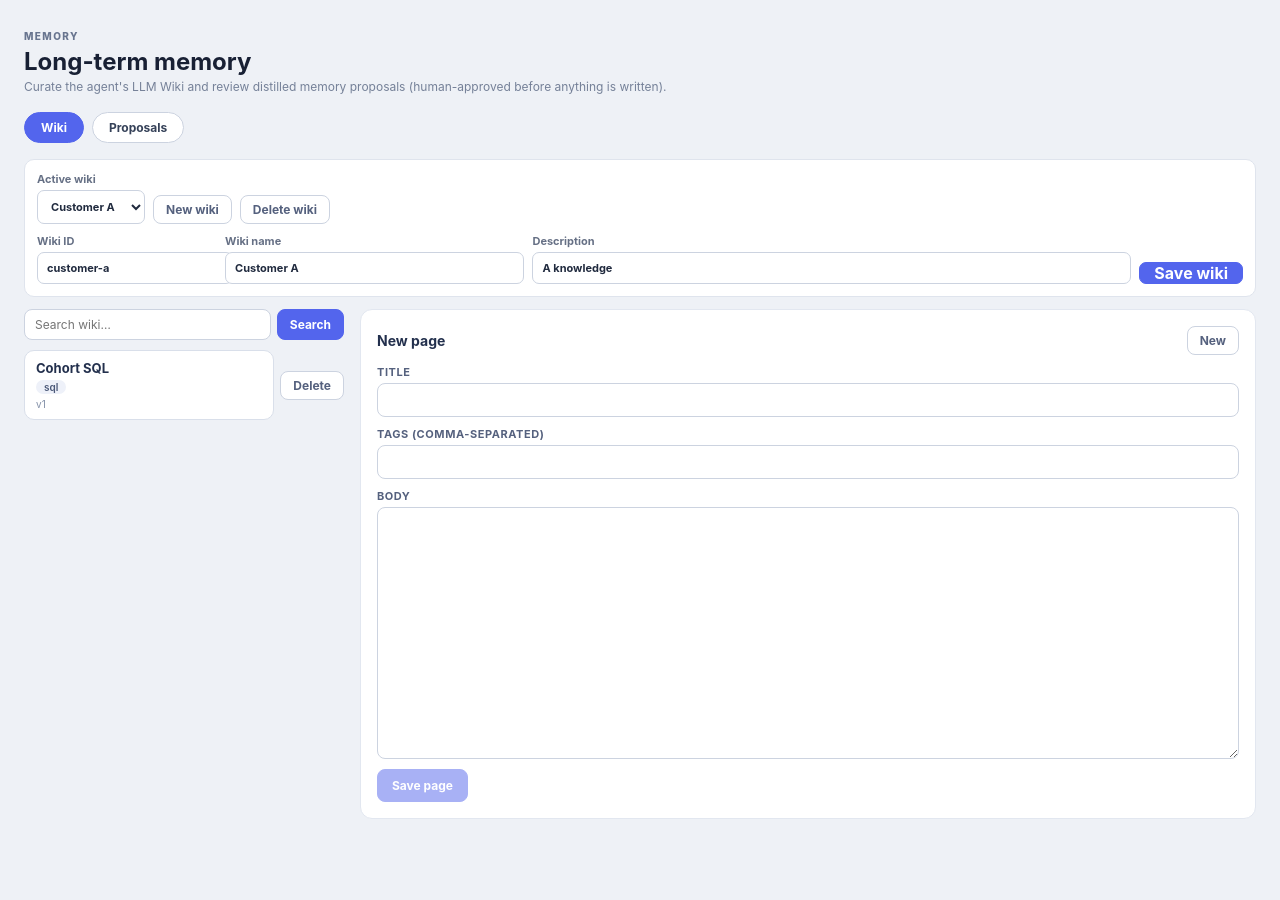
Scenario: MemoryPage › Wiki管理(Save wiki)のエラーはWiki管理セクション直下に表示し、ページ編集エラーとは独立する
Click the button "New wiki": point(192, 210) [153,195,232,224]
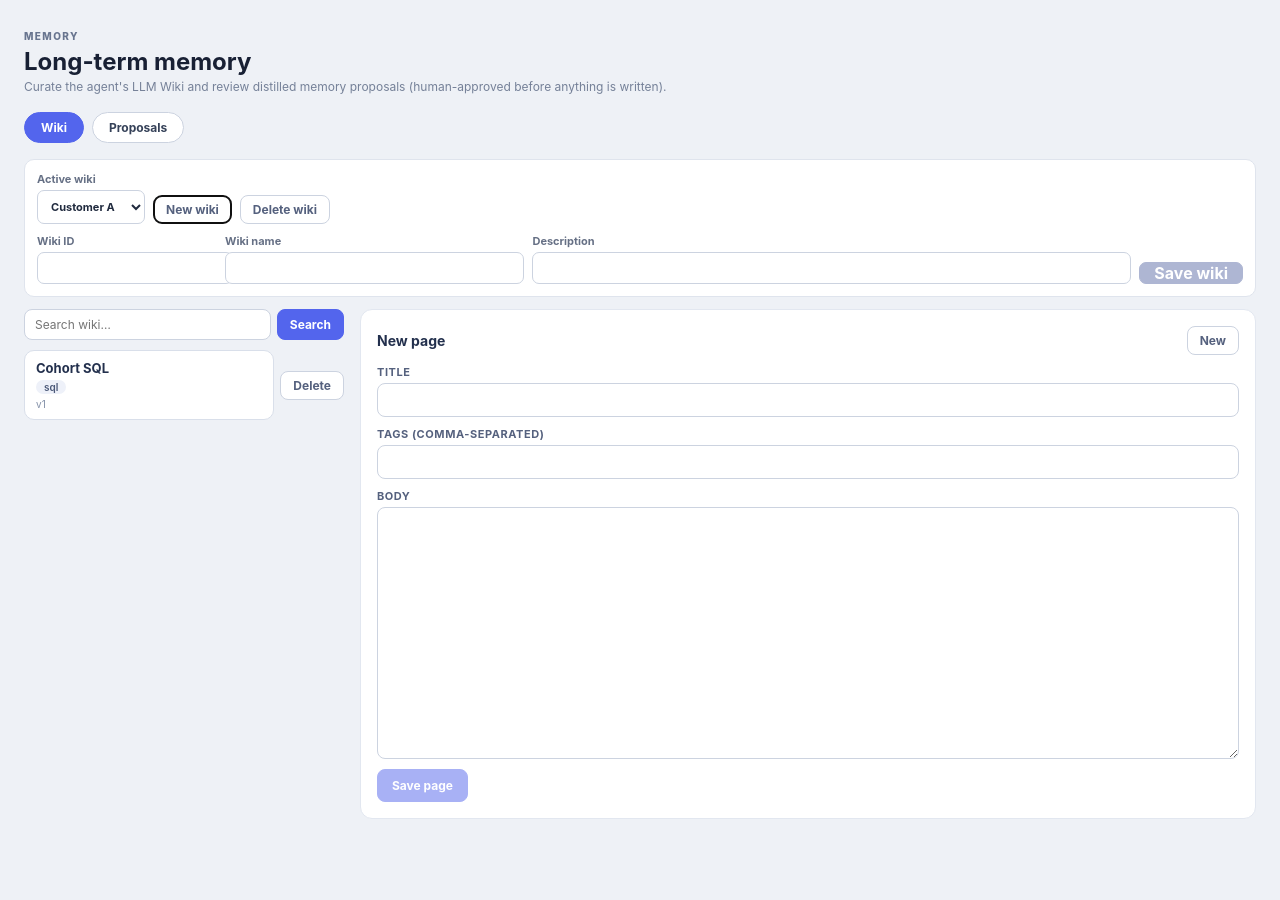
In the field labelled "Wiki ID": point(135, 268) [37,252,233,284], type "customer-b"
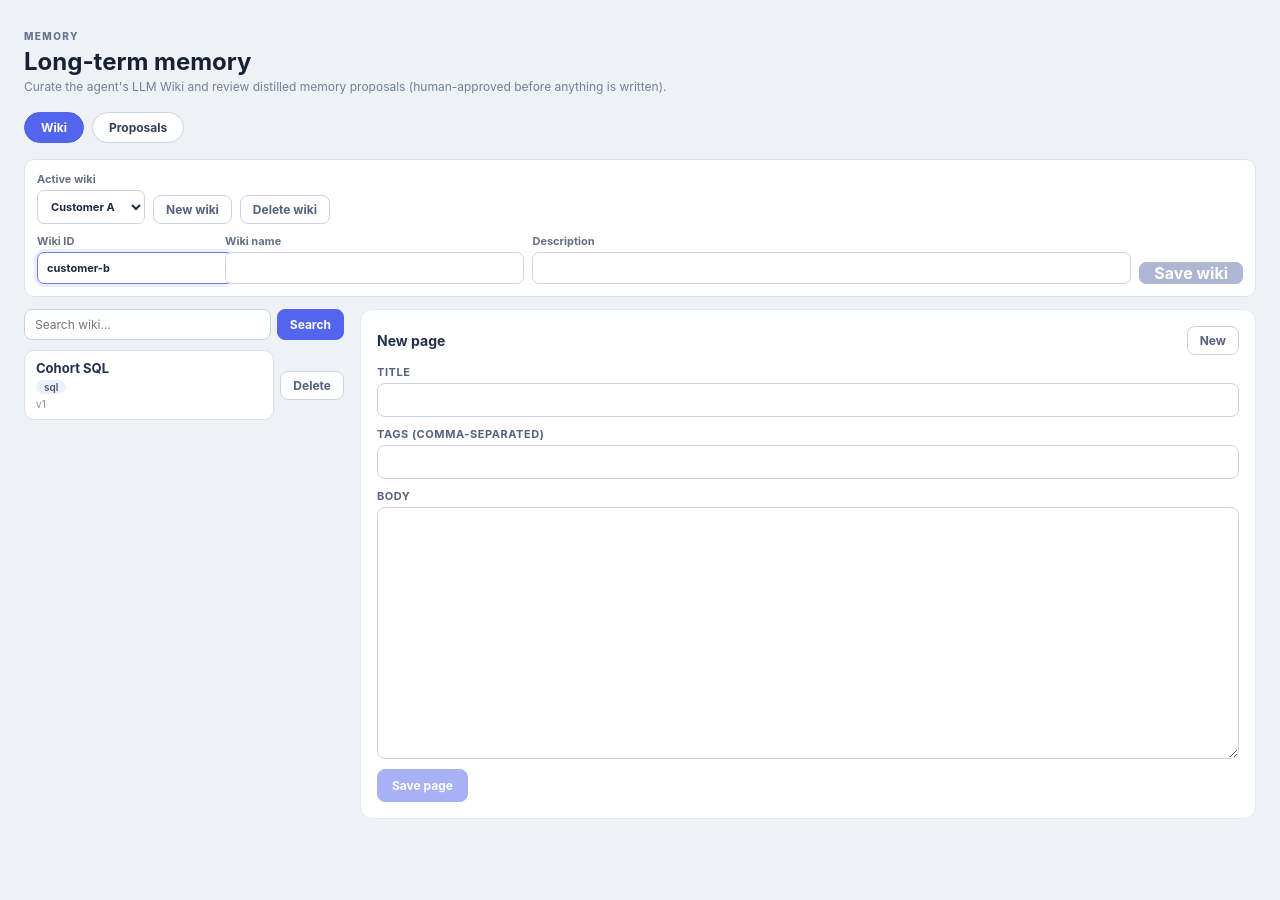
In the field labelled "Wiki name": point(375, 268) [225,252,524,284], type "Customer B"
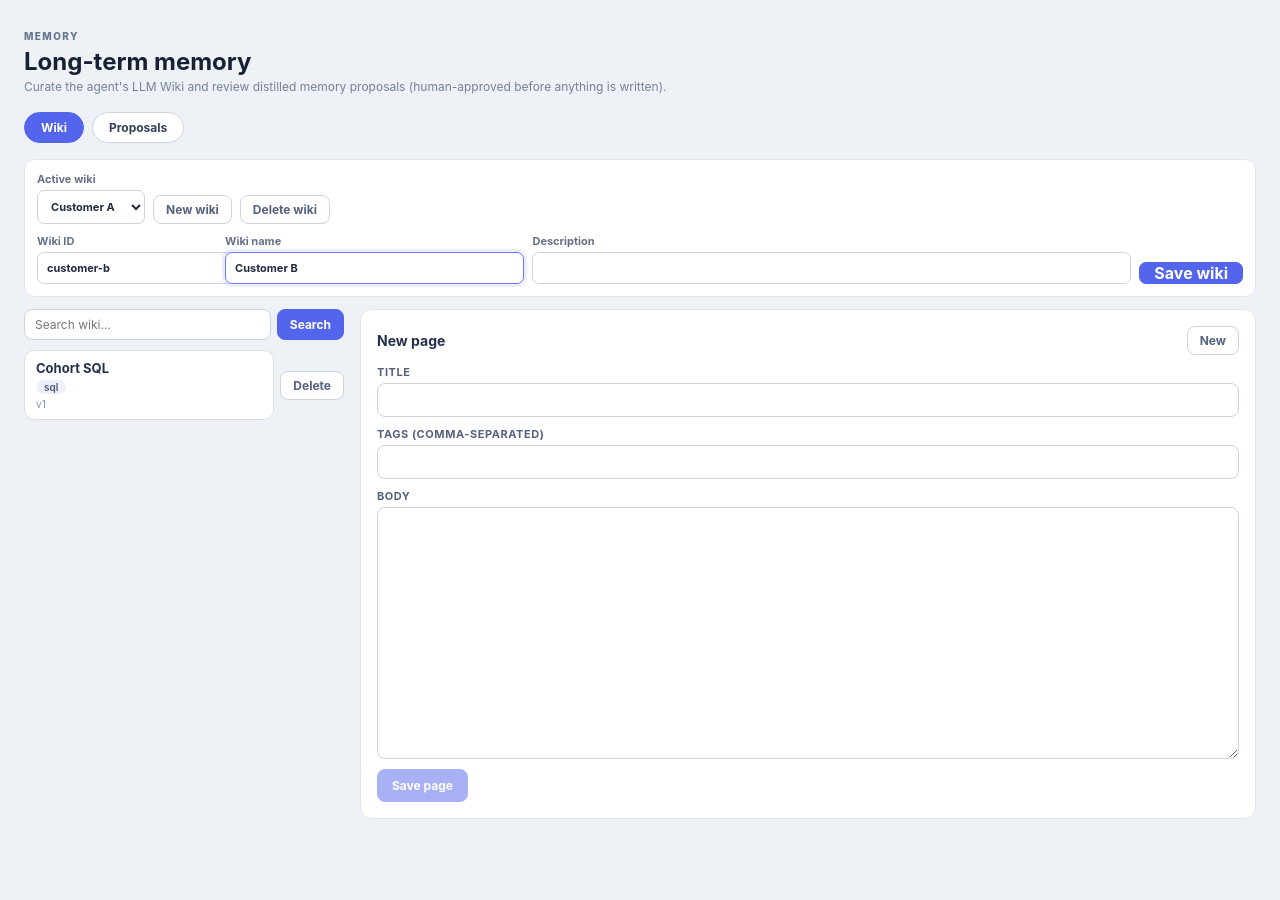
Click the button "Save wiki": point(1191, 273) [1139,262,1243,284]
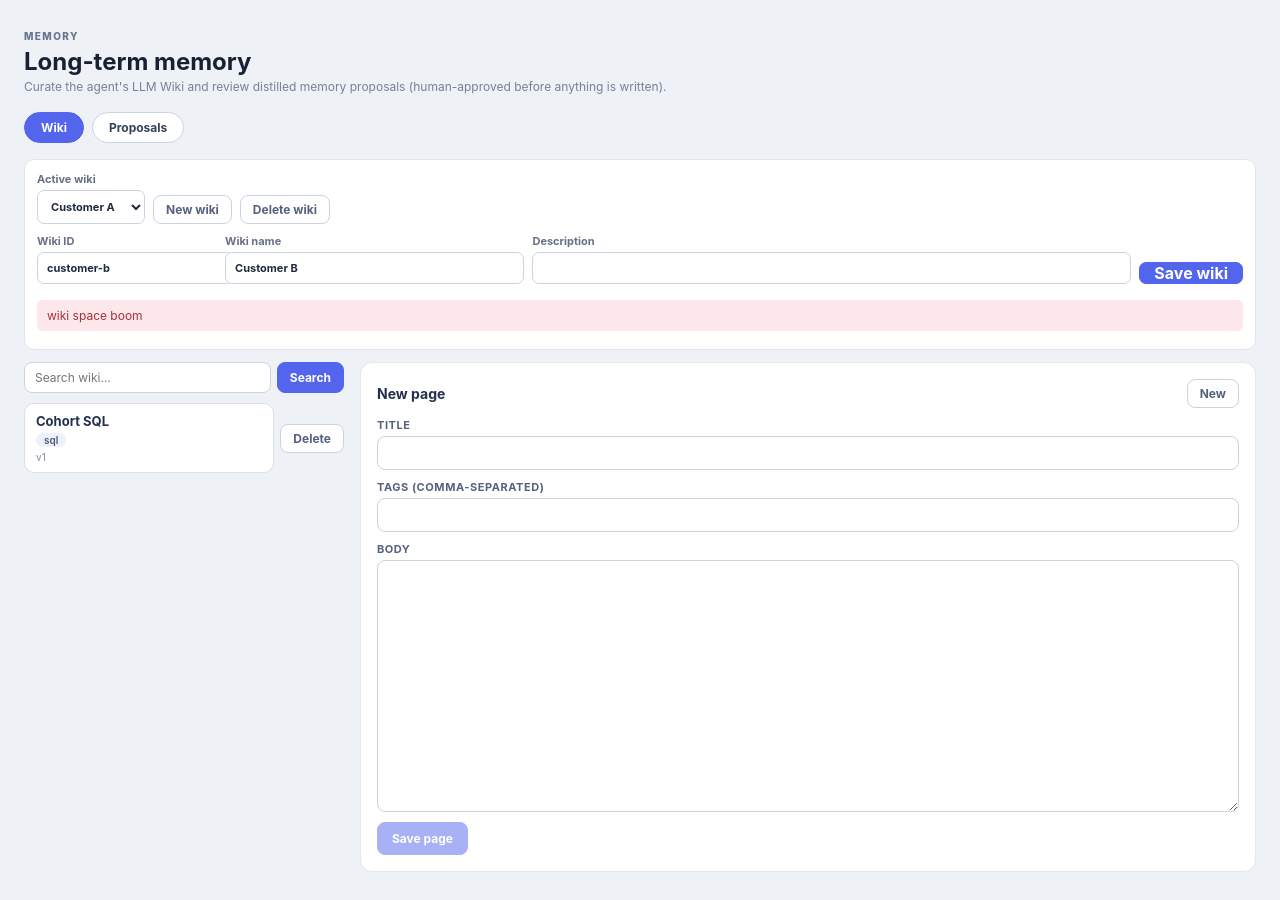
Now the text "wiki space boom" is shown, box [47,308,143,323]
